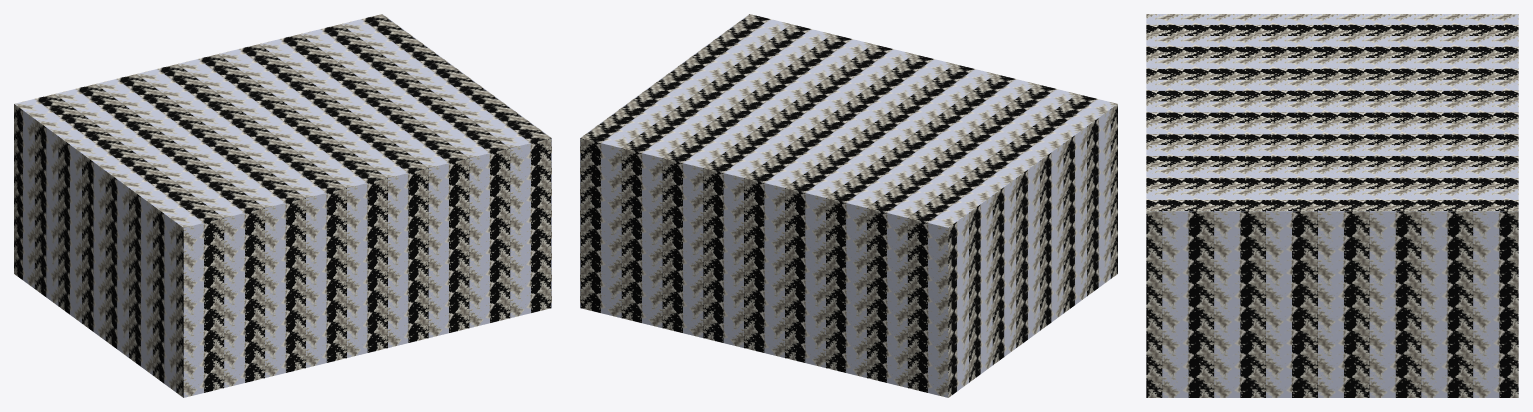
The model's file is Travel_brush.glb.
3 views of the same model, side by side, from view 1: azimuth 30°, elevation 25°; view 2: azimuth 150°, elevation 25°; view 3: azimuth 270°, elevation 25° (orthographic). The views are drawn at different scales.
Parts seen in each view (by area): view 1: Travel; view 2: Travel; view 3: Travel.
Boxes of the visible parts, <box> form: Travel: <box>14,14,551,397</box>; Travel: <box>580,14,1117,397</box>; Travel: <box>1146,14,1518,397</box>.
Bounding box in the file's own units: 2307 × 1018 × 1839.
Materials: 15 (15 with a texture image).
